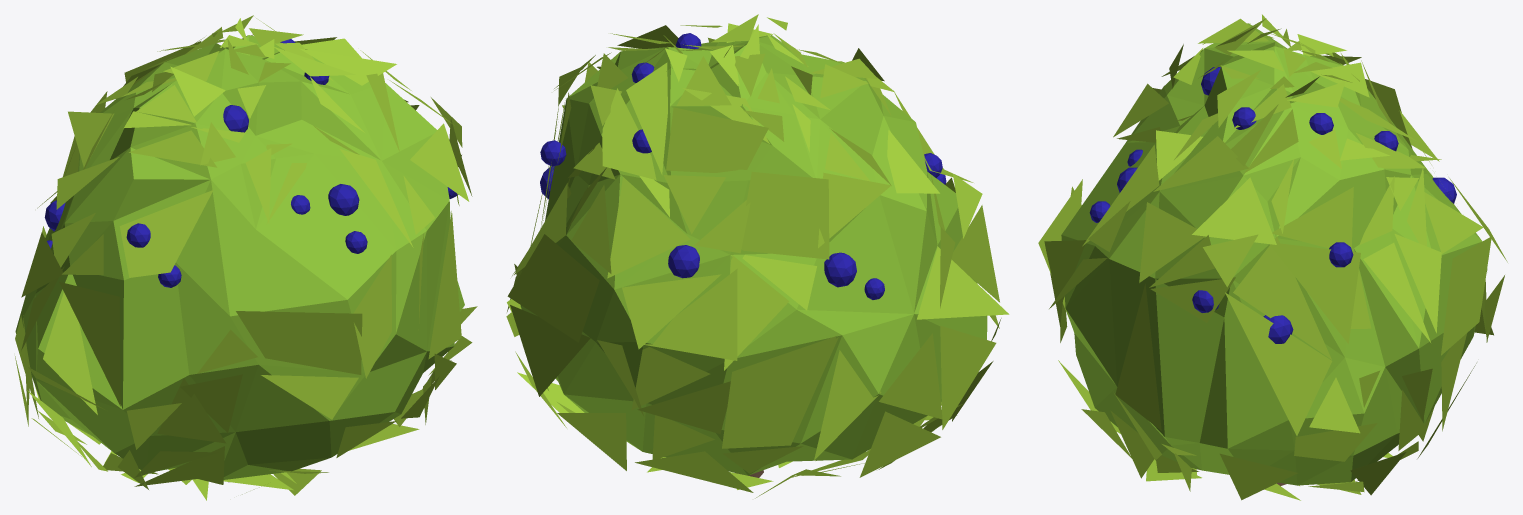
File: blueberry.fbx
3 renders of one model, left to right at view 1: azimuth 30°, elevation 25°; view 2: azimuth 150°, elevation 25°; view 3: azimuth 270°, elevation 25°, orthographic. The views are drawn at different scales.
Visible parts, largest first — view 1: Burry; view 2: Burry; view 3: Burry.
Boxes of the visible parts, x1,y1,x2,y2 form: Burry: (15,15,477,500); Burry: (506,14,1009,498); Burry: (1038,14,1507,500).
Size of the model in its own units: 210 by 223 by 236.
